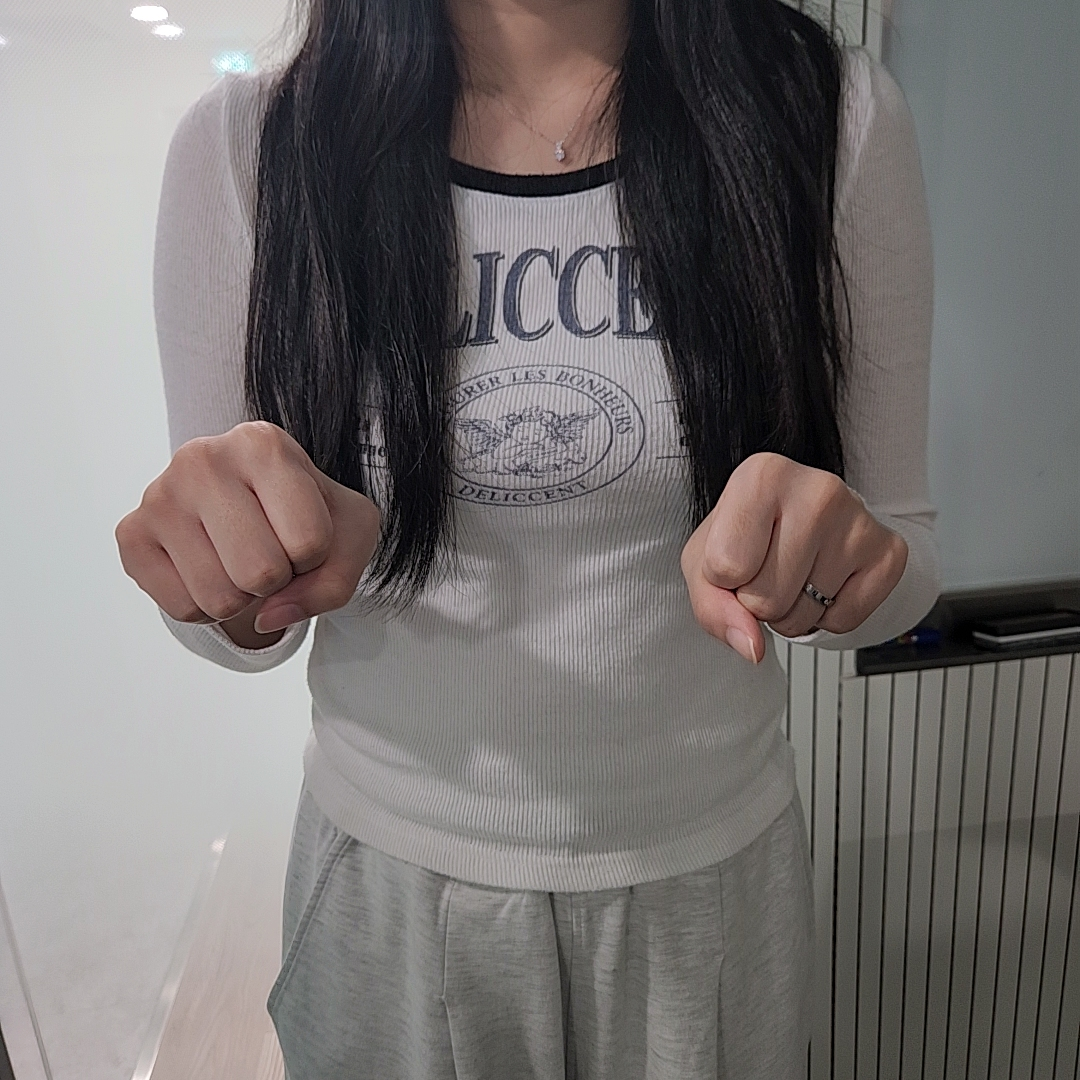hello: (119, 421, 908, 666)
